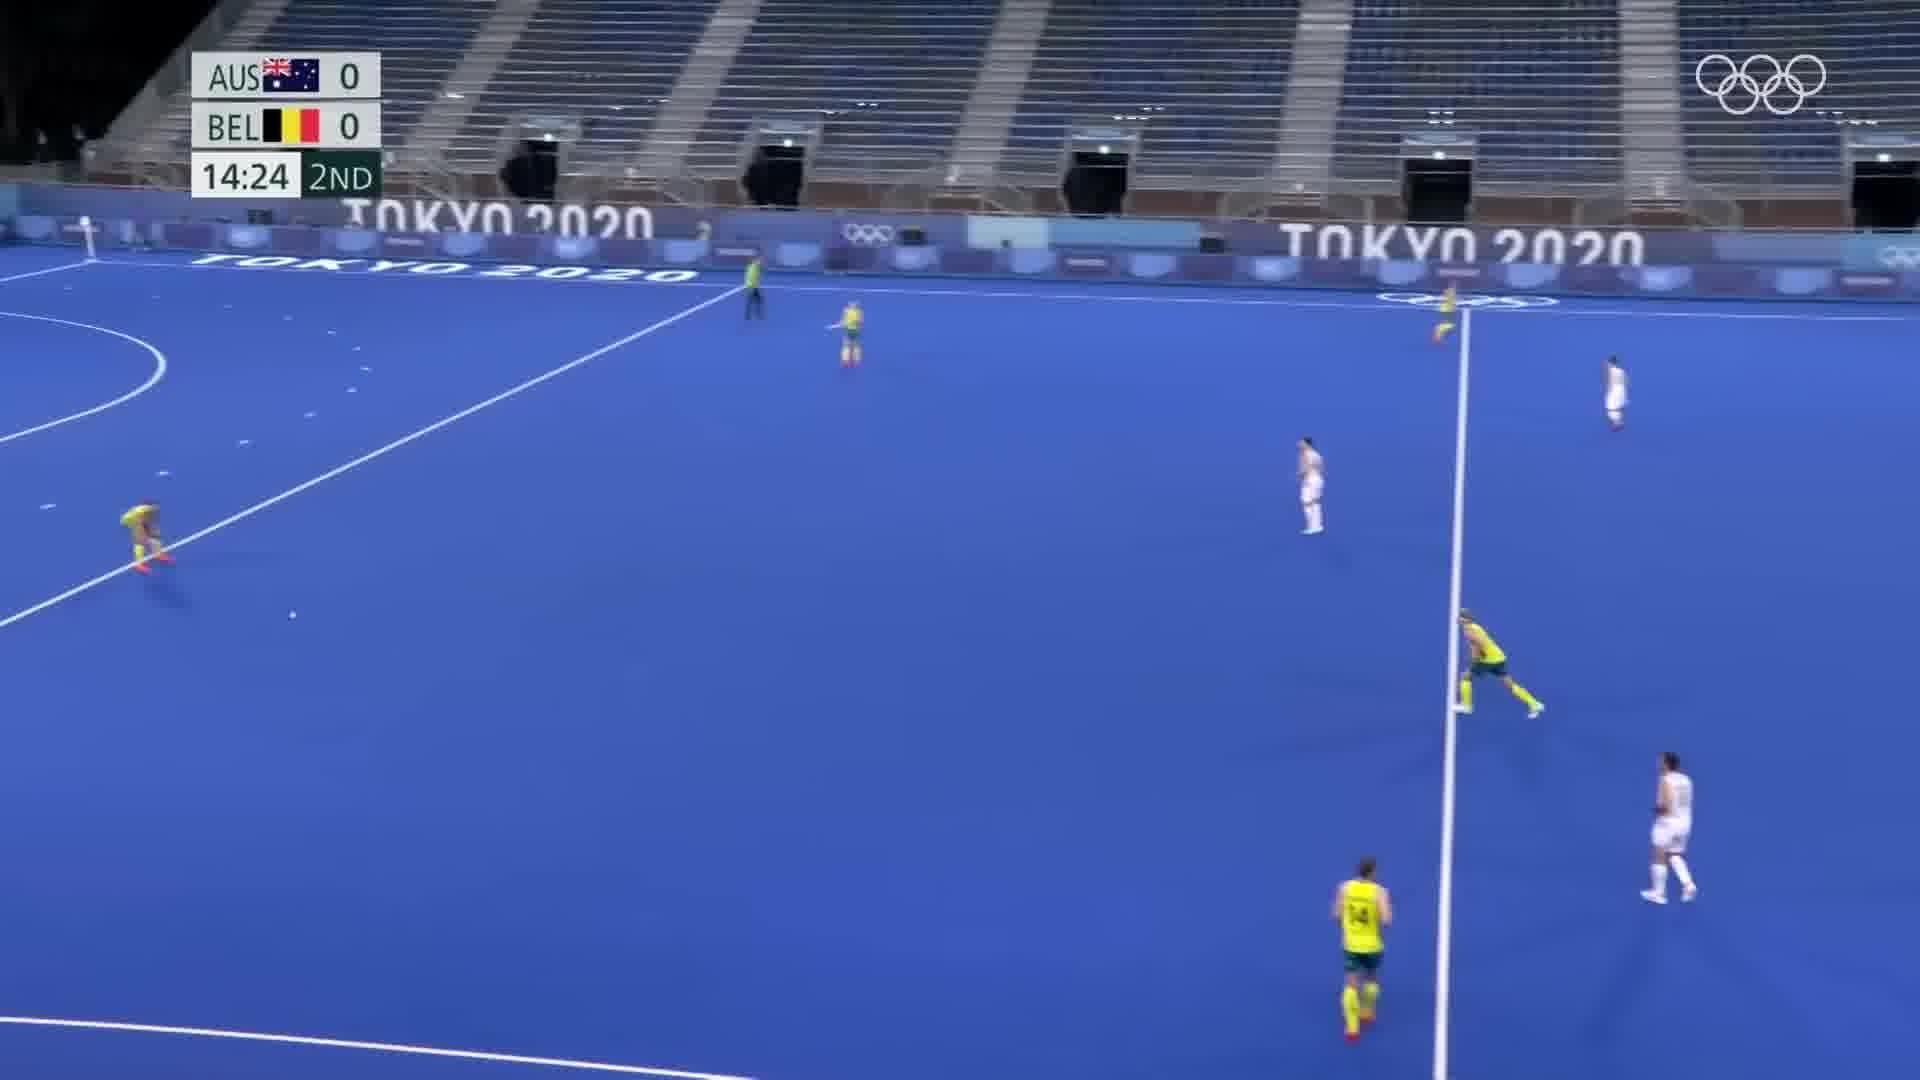ball: (282, 605, 305, 628)
